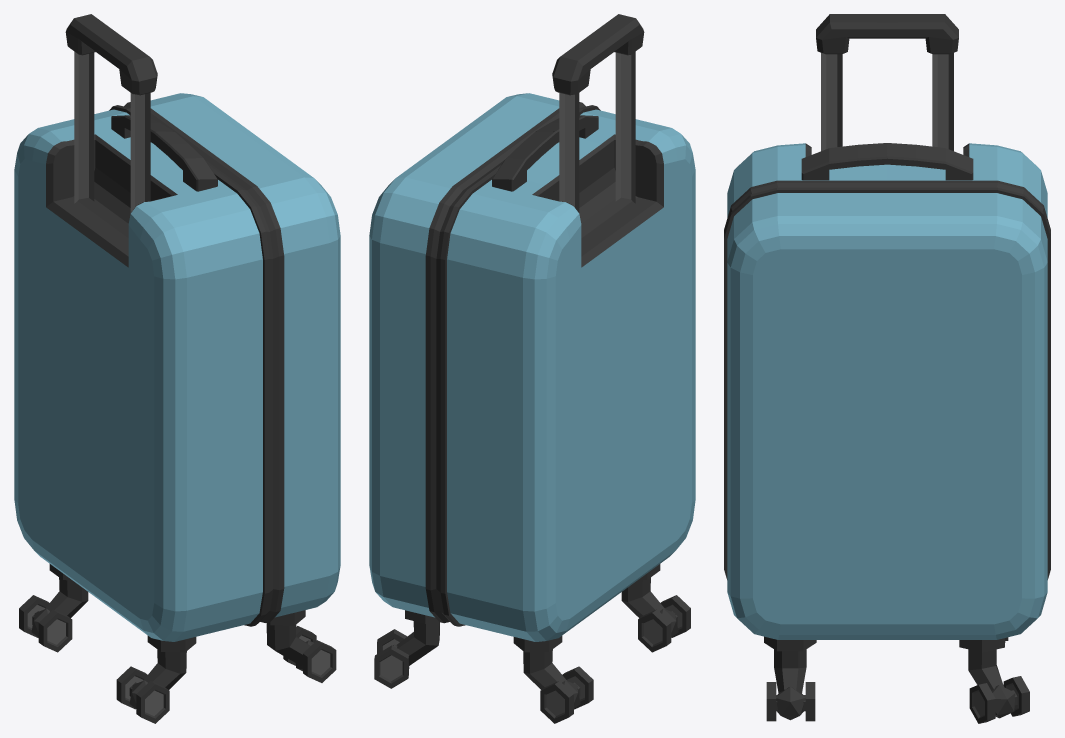
Rendered from travel-suitcase-guarded-yellow.glb.
3 views of the same model, side by side, from view 1: azimuth 30°, elevation 25°; view 2: azimuth 150°, elevation 25°; view 3: azimuth 270°, elevation 25° (orthographic).
Parts seen in each view (by area): view 1: Suitcase; view 2: Suitcase; view 3: Suitcase.
Boxes of the visible parts, box(x1,y1,x2,y2) form: Suitcase: box(14, 14, 340, 723); Suitcase: box(369, 14, 695, 723); Suitcase: box(724, 14, 1050, 723).
Size of the model in its own units: 0.4866 by 1.47 by 0.6894.
